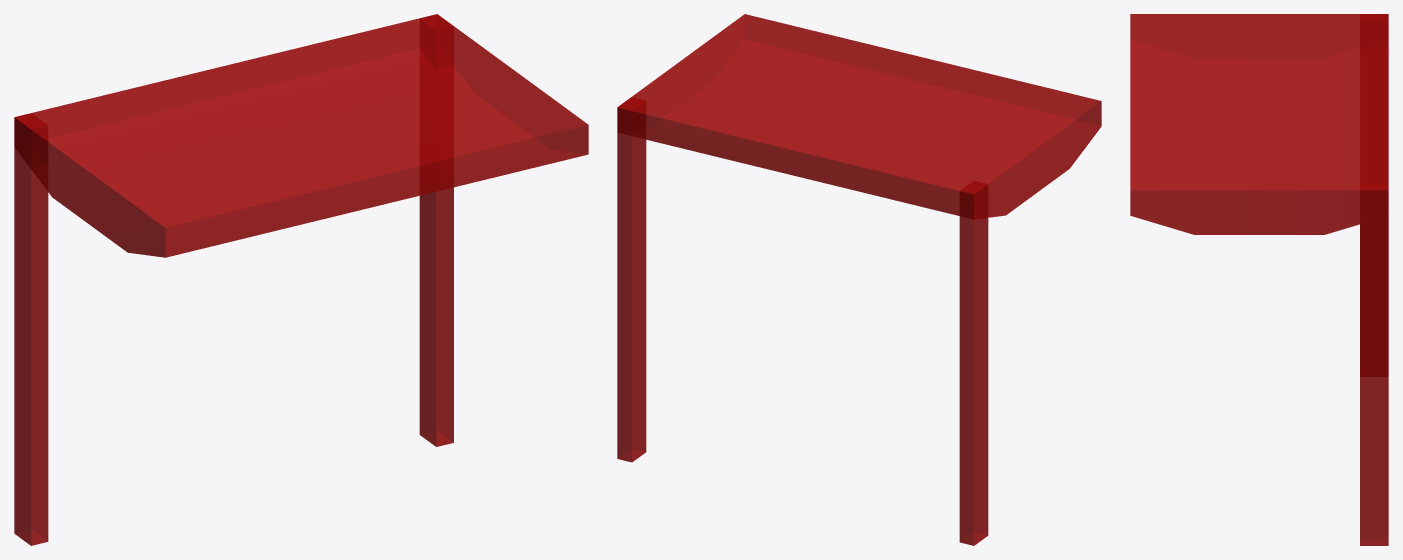
The model's file is SM_Bld_Village_ClothCover_02_Collision.fbx.
3 renders of one model, left to right at view 1: azimuth 30°, elevation 25°; view 2: azimuth 150°, elevation 25°; view 3: azimuth 270°, elevation 25°, orthographic. The views are drawn at different scales.
Parts seen in each view (by area): view 1: SM_Bld_Village_ClothCover_02_Collision; view 2: SM_Bld_Village_ClothCover_02_Collision; view 3: SM_Bld_Village_ClothCover_02_Collision.
Boxes of the visible parts, <box> form: SM_Bld_Village_ClothCover_02_Collision: <box>14,14,588,545</box>; SM_Bld_Village_ClothCover_02_Collision: <box>617,14,1101,545</box>; SM_Bld_Village_ClothCover_02_Collision: <box>1130,14,1388,545</box>.
Size of the model in its own units: 363 by 342 by 225.
